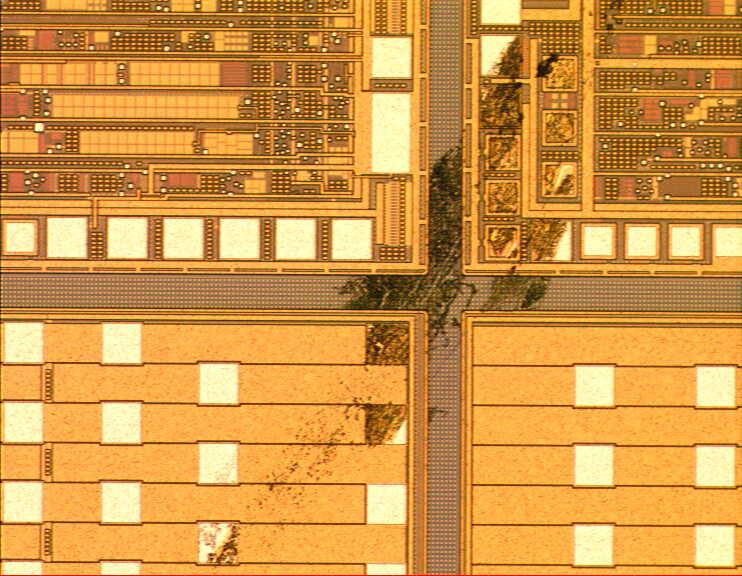SCRATCH: (184, 1, 632, 576)
